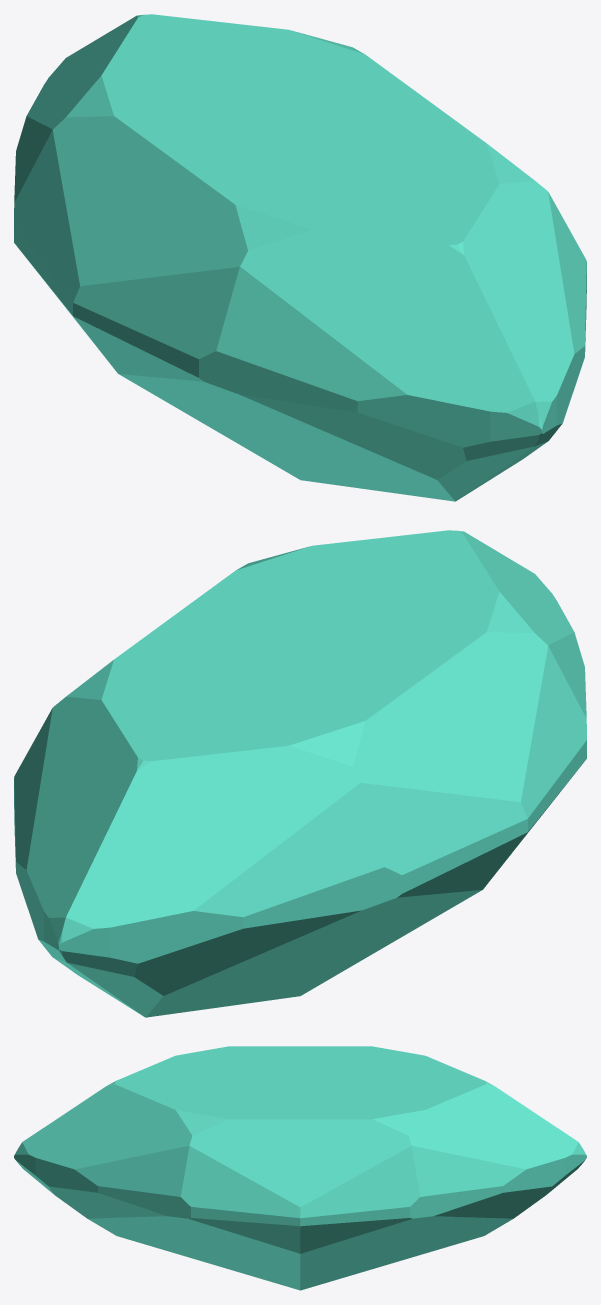
Rendered from marquise.glb.
3 views of the same model, one above another, from view 1: azimuth 30°, elevation 25°; view 2: azimuth 150°, elevation 25°; view 3: azimuth 270°, elevation 25° (orthographic). The views are drawn at different scales.
Parts seen in each view (by area): view 1: Prism_marquise; view 2: Prism_marquise; view 3: Prism_marquise.
Part boxes in pixels (x1,y1,x2,y2): Prism_marquise: (14, 14, 586, 501); Prism_marquise: (14, 530, 586, 1017); Prism_marquise: (14, 1046, 586, 1290).
Bounding box in the file's own units: 1.38 × 1.02 × 2.54.
